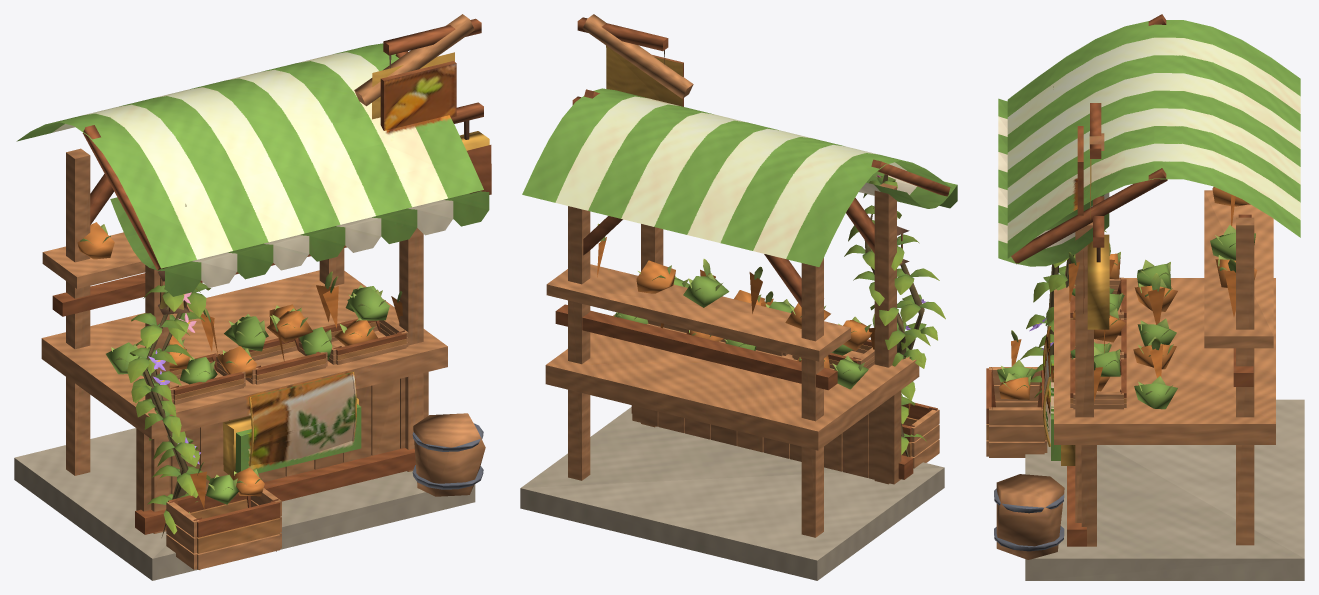
The model's file is stall_vegetables.glb.
The picture shows the model from 3 angles, left to right: view 1: azimuth 30°, elevation 25°; view 2: azimuth 150°, elevation 25°; view 3: azimuth 270°, elevation 25°; orthographic projection. The views are drawn at different scales.
Visible parts, largest first — view 1: Body; view 2: Body; view 3: Body.
Part boxes in pixels (x1,y1,x2,y2): Body: (14,14,491,580); Body: (520,14,957,580); Body: (986,14,1304,580).
Bounding box in the file's own units: 2.87 × 3.27 × 2.06.
Materials: 1 (1 with a texture image).
